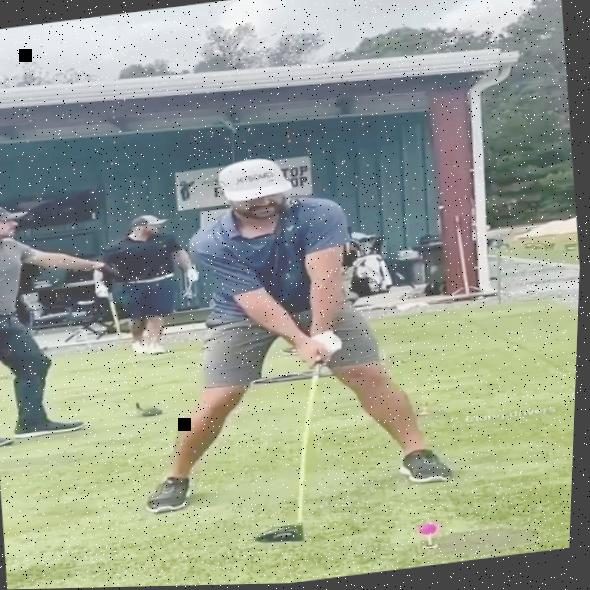ClubHead: (259, 523, 312, 548)
GolfBall: (421, 524, 443, 538)
